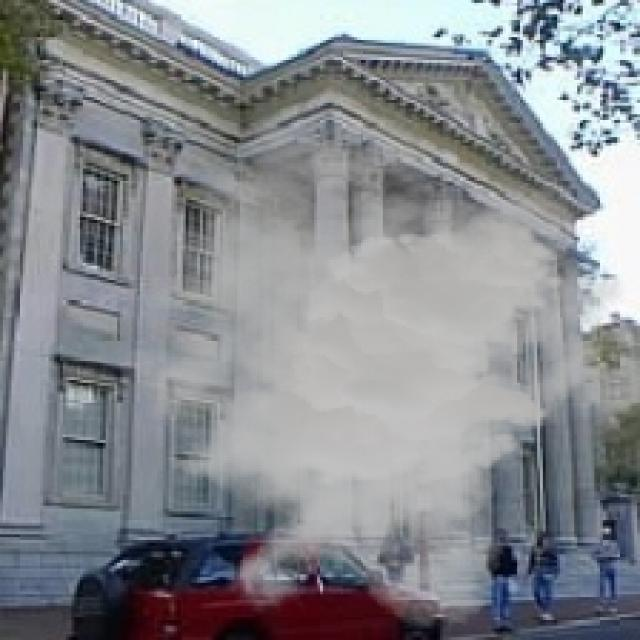smoke: (85, 114, 626, 632)
